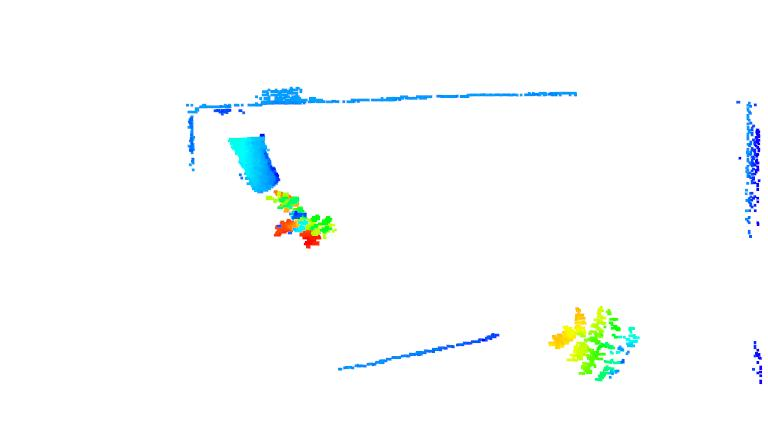chickpea: (556, 304, 637, 382), (265, 186, 336, 252)
